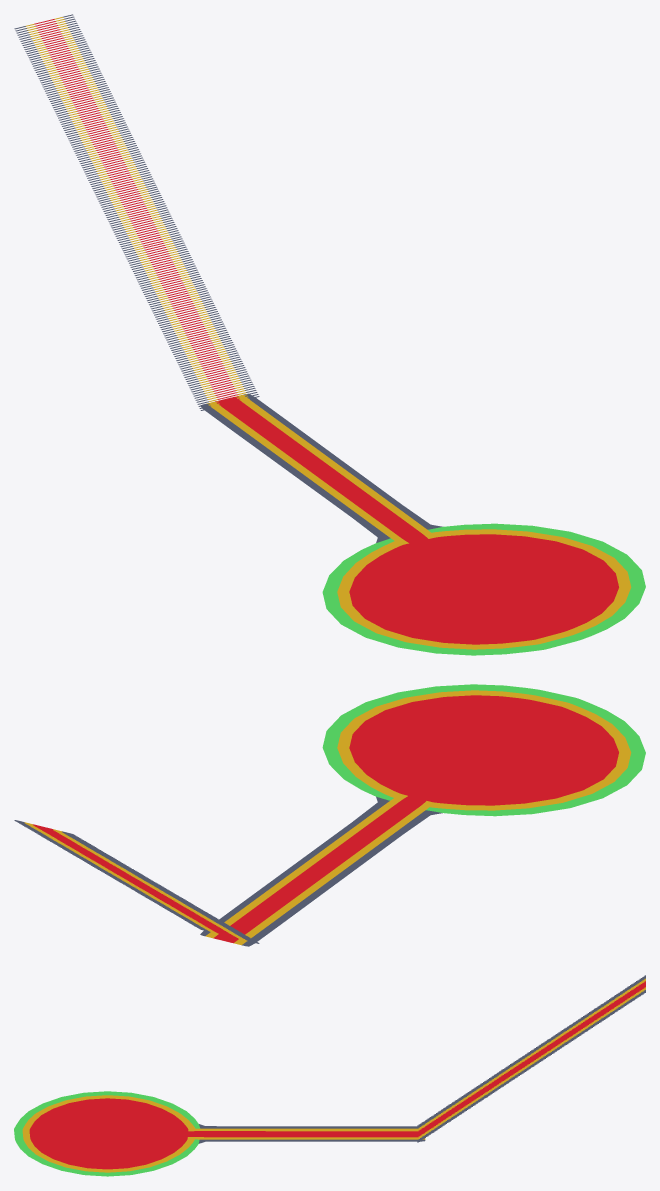
File: Sala_cristales_suelo.fbx
3 renders of one model, top to bottom at view 1: azimuth 30°, elevation 25°; view 2: azimuth 150°, elevation 25°; view 3: azimuth 270°, elevation 25°, orthographic. The views are drawn at different scales.
Parts seen in each view (by area): view 1: Cylinder.005, stairs.001; view 2: Cylinder.005, stairs.001; view 3: Cylinder.005, stairs.001.
Part boxes in pixels (x1,y1,x2,y2): Cylinder.005: (200, 393, 645, 655); stairs.001: (14, 14, 259, 410); Cylinder.005: (200, 684, 645, 946); stairs.001: (14, 820, 259, 943); Cylinder.005: (14, 1091, 425, 1176); stairs.001: (417, 975, 645, 1142).
Bounding box in the file's own units: 1218 × 998 × 3814.
